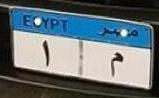1: (41, 39, 52, 70)
meem: (107, 48, 125, 80)
